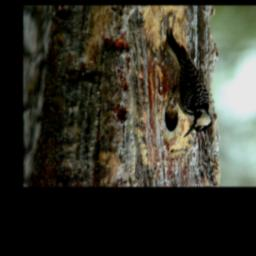Woodpecker: (154, 20, 219, 141)
